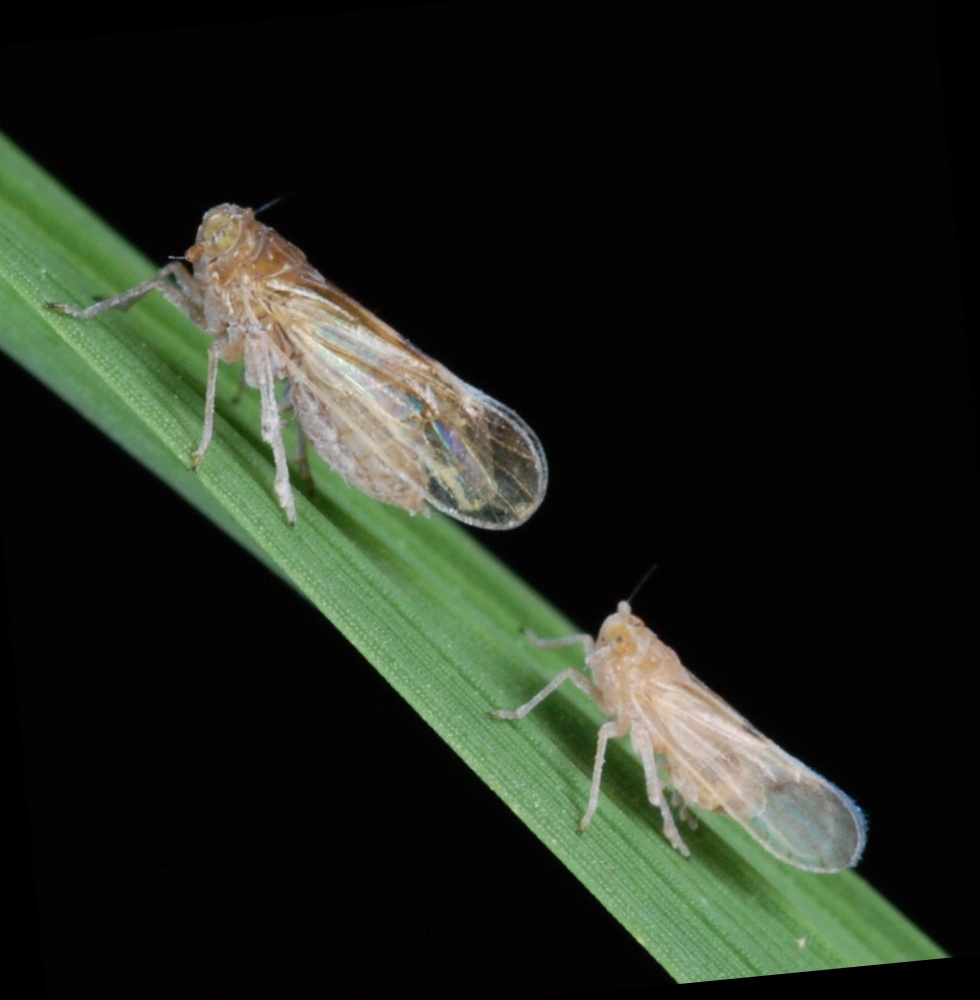Brown_hopper: (211, 149, 550, 575), (610, 542, 864, 928)
